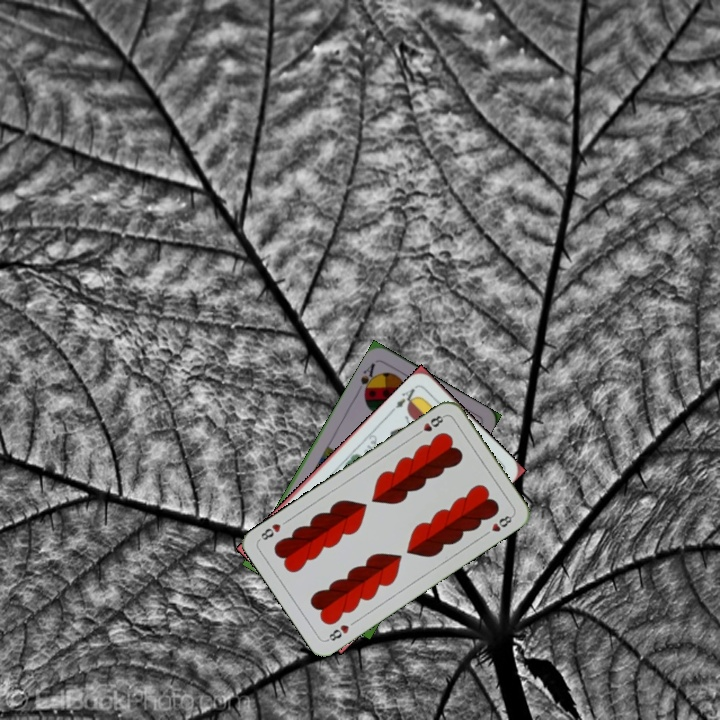EA: (387, 384, 421, 414)
H8: (412, 411, 448, 438), (323, 620, 352, 644)
SA: (356, 359, 380, 398)
